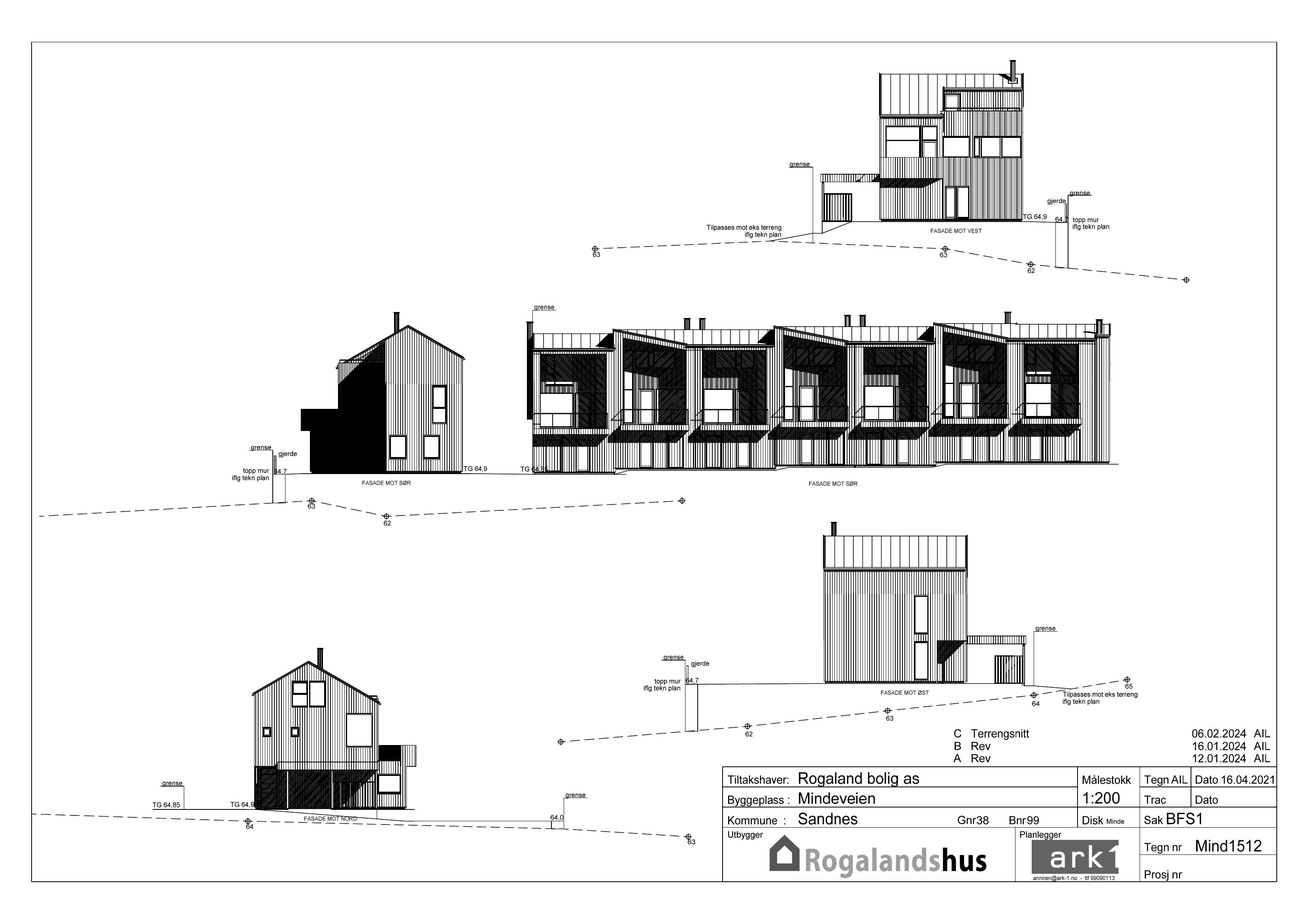fasade: (819, 59, 1072, 272), (821, 520, 1070, 691), (273, 311, 467, 520), (250, 646, 419, 828)
